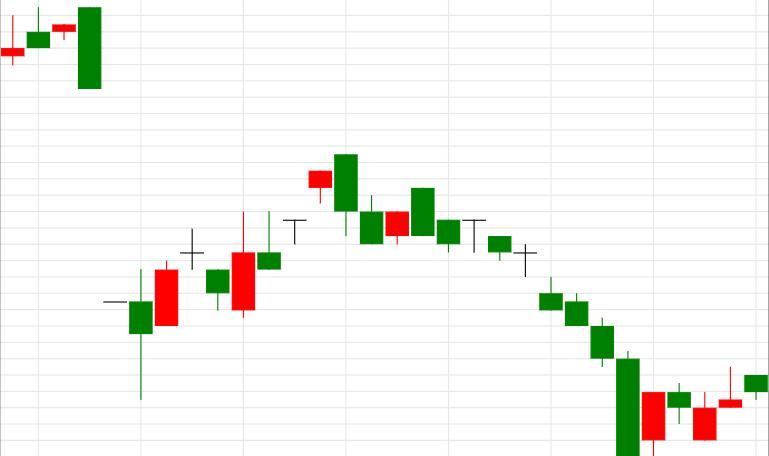bearish_engulfing_fall: (232, 154, 357, 319)
